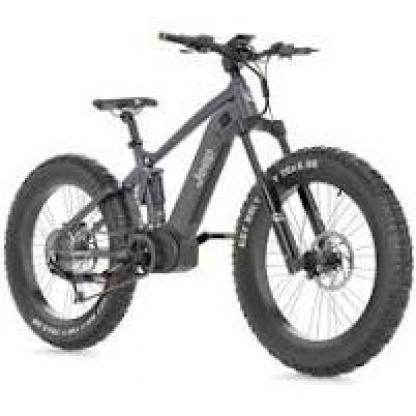Bike: (4, 27, 416, 376)
